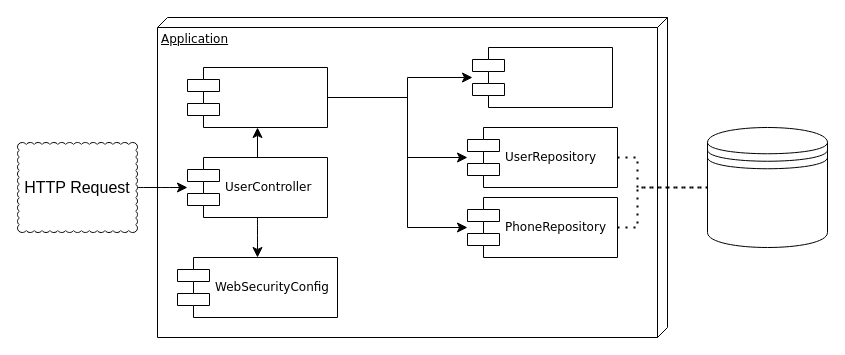
The diagram is 845 pixels wide and 355 high, and some of its shapes have lost their labels. The shapes that lost their labels are listed below. From the top down, each one's centre as x and y in pixels, then its label:
point 257,97: UserService
point 542,77: JwtTokenUtil
point 767,187: H2 Database
